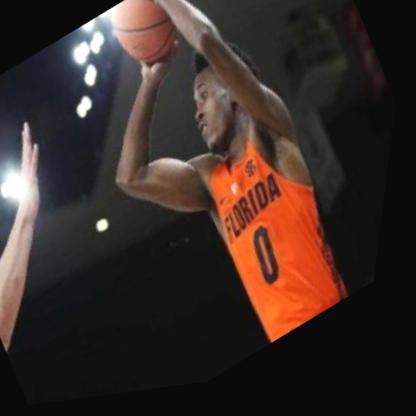basketball: (95, 0, 201, 88)
